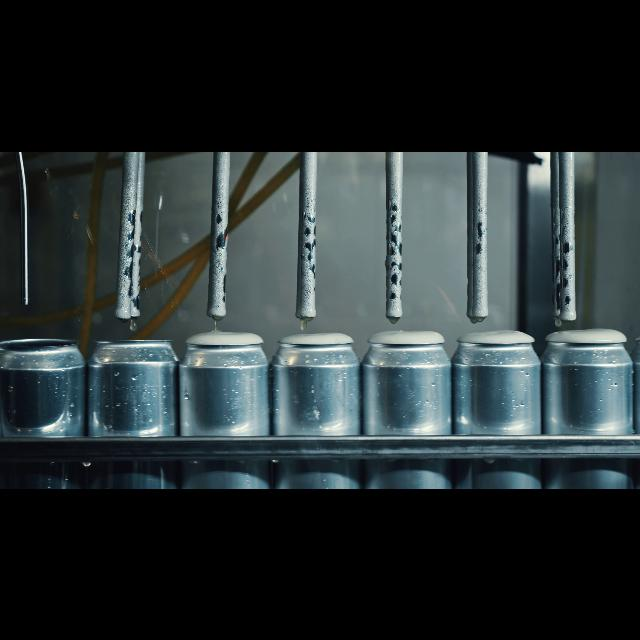empty: (91, 320, 177, 488), (1, 328, 85, 488)
full: (360, 320, 450, 488), (544, 320, 632, 488), (182, 322, 270, 488), (274, 320, 356, 488), (458, 320, 538, 488)
